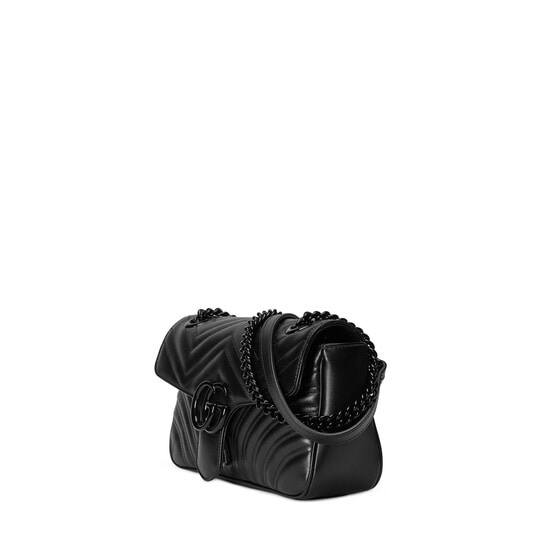Gucci: (134, 283, 388, 527), (173, 361, 248, 441)
